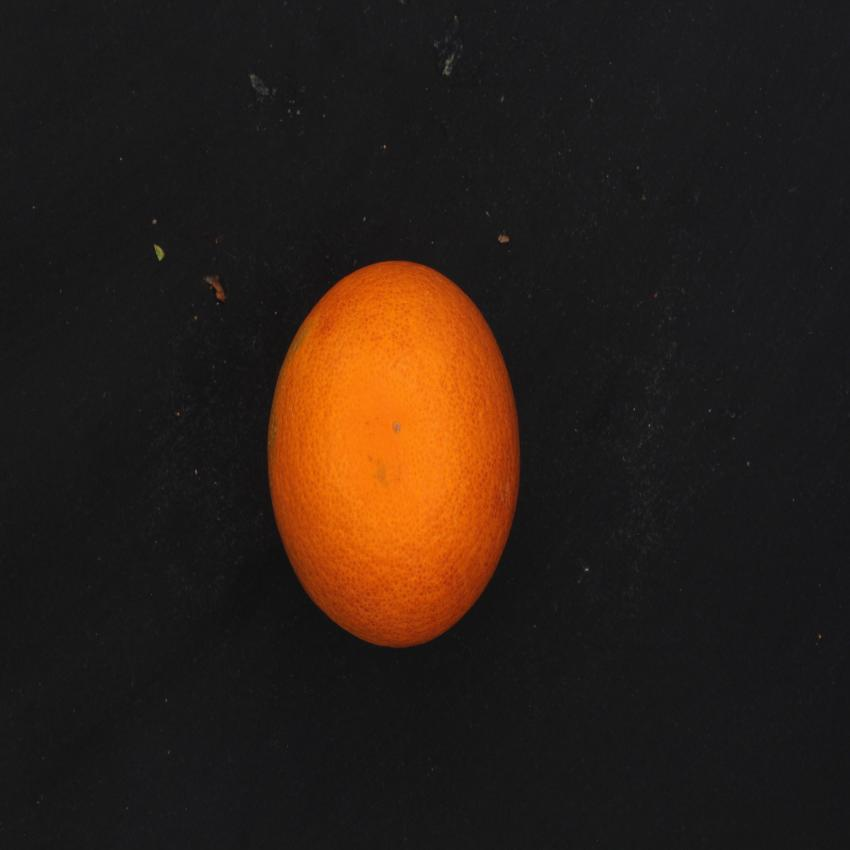Buen estado: (255, 255, 538, 656)
